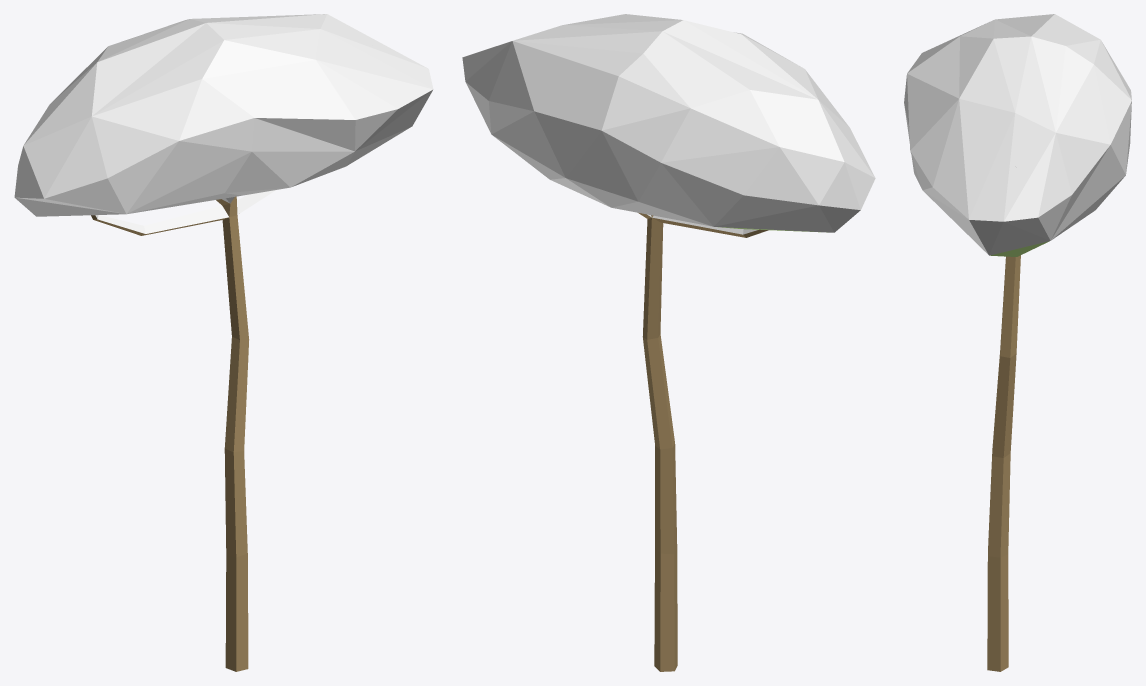
Rendered from Acacia_Tree_m_Snow_03_LOD.fbx.
The picture shows the model from 3 angles, left to right: view 1: azimuth 30°, elevation 25°; view 2: azimuth 150°, elevation 25°; view 3: azimuth 270°, elevation 25°; orthographic projection. The views are drawn at different scales.
Visible parts, largest first — view 1: Acacia_Tree_m_Snow_03_LOD0; view 2: Acacia_Tree_m_Snow_03_LOD0; view 3: Acacia_Tree_m_Snow_03_LOD0.
Boxes of the visible parts, bbox=[...] form: Acacia_Tree_m_Snow_03_LOD0: bbox=[14, 14, 433, 671]; Acacia_Tree_m_Snow_03_LOD0: bbox=[462, 14, 875, 671]; Acacia_Tree_m_Snow_03_LOD0: bbox=[904, 14, 1131, 671].
Size of what is drawn, in the model's own units: 549 by 830 by 275.
